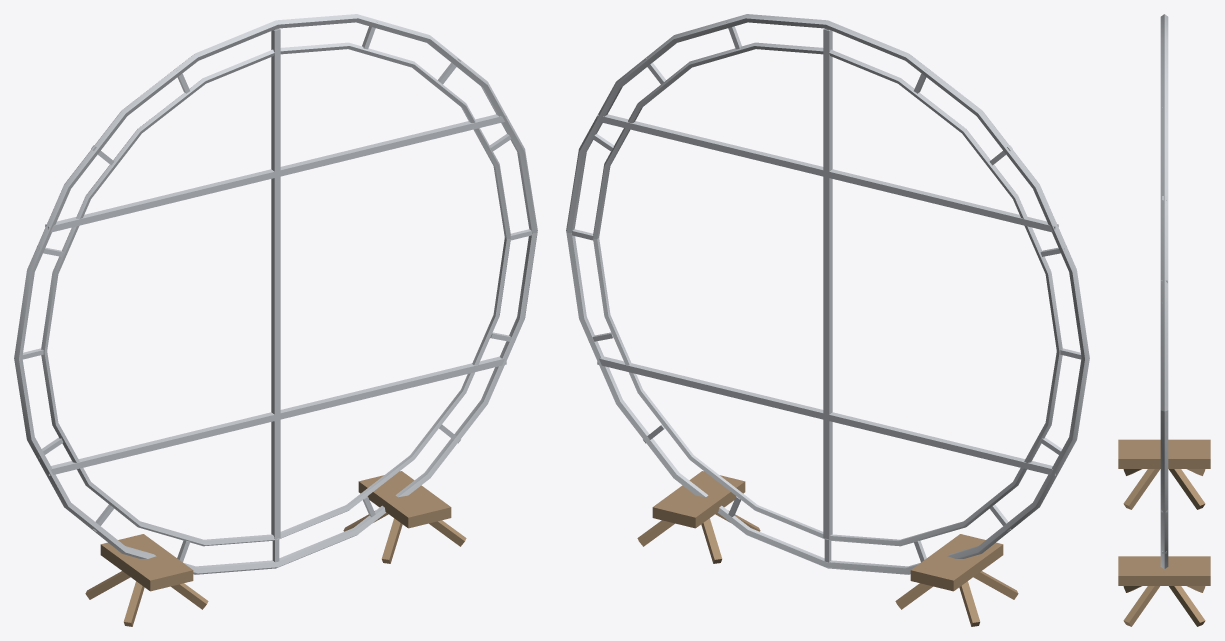
The model's file is steampunk-airship-dock-and-workshop-airship-frame-ring-aaeaca32__36043.glb.
3 views of the same model, side by side, from view 1: azimuth 30°, elevation 25°; view 2: azimuth 150°, elevation 25°; view 3: azimuth 270°, elevation 25° (orthographic). The views are drawn at different scales.
Visible parts, largest first — view 1: airship-frame-ring; view 2: airship-frame-ring; view 3: airship-frame-ring.
Part boxes in pixels (box(x1,y1,x2,y2)): airship-frame-ring: box(14, 14, 537, 626); airship-frame-ring: box(566, 14, 1089, 626); airship-frame-ring: box(1118, 14, 1210, 626).
Size of the model in its own units: 6.09 by 6.13 by 0.9999.
